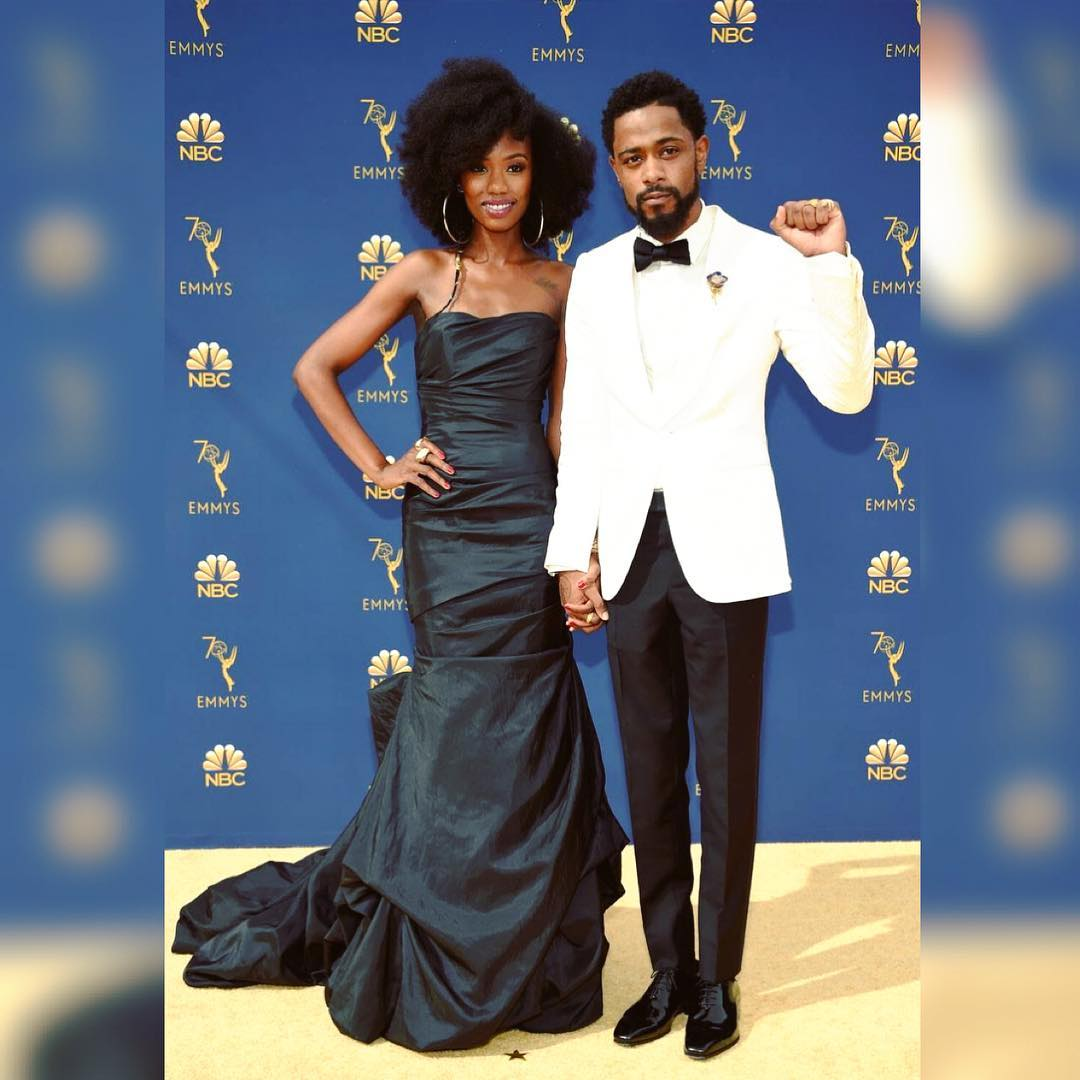hand: (368, 446, 446, 492)
